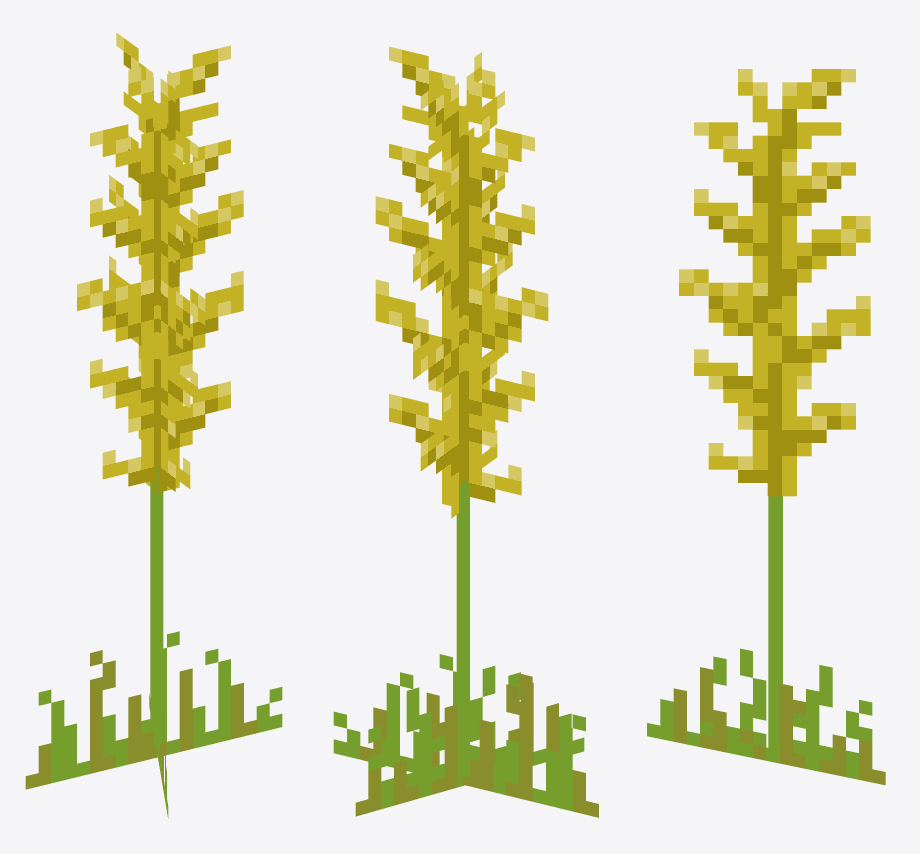
The model's file is Wheat_small.fbx.
3 renders of one model, left to right at view 1: azimuth 30°, elevation 25°; view 2: azimuth 150°, elevation 25°; view 3: azimuth 270°, elevation 25°, orthographic. The views are drawn at different scales.
Visible parts, largest first — view 1: Plane.009; view 2: Plane.009; view 3: Plane.009.
Boxes of the visible parts, bbox=[...] form: Plane.009: bbox=[25, 32, 282, 818]; Plane.009: bbox=[333, 46, 598, 817]; Plane.009: bbox=[647, 69, 885, 785].
Bounding box in the file's own units: 68.04 × 168 × 56.42.
